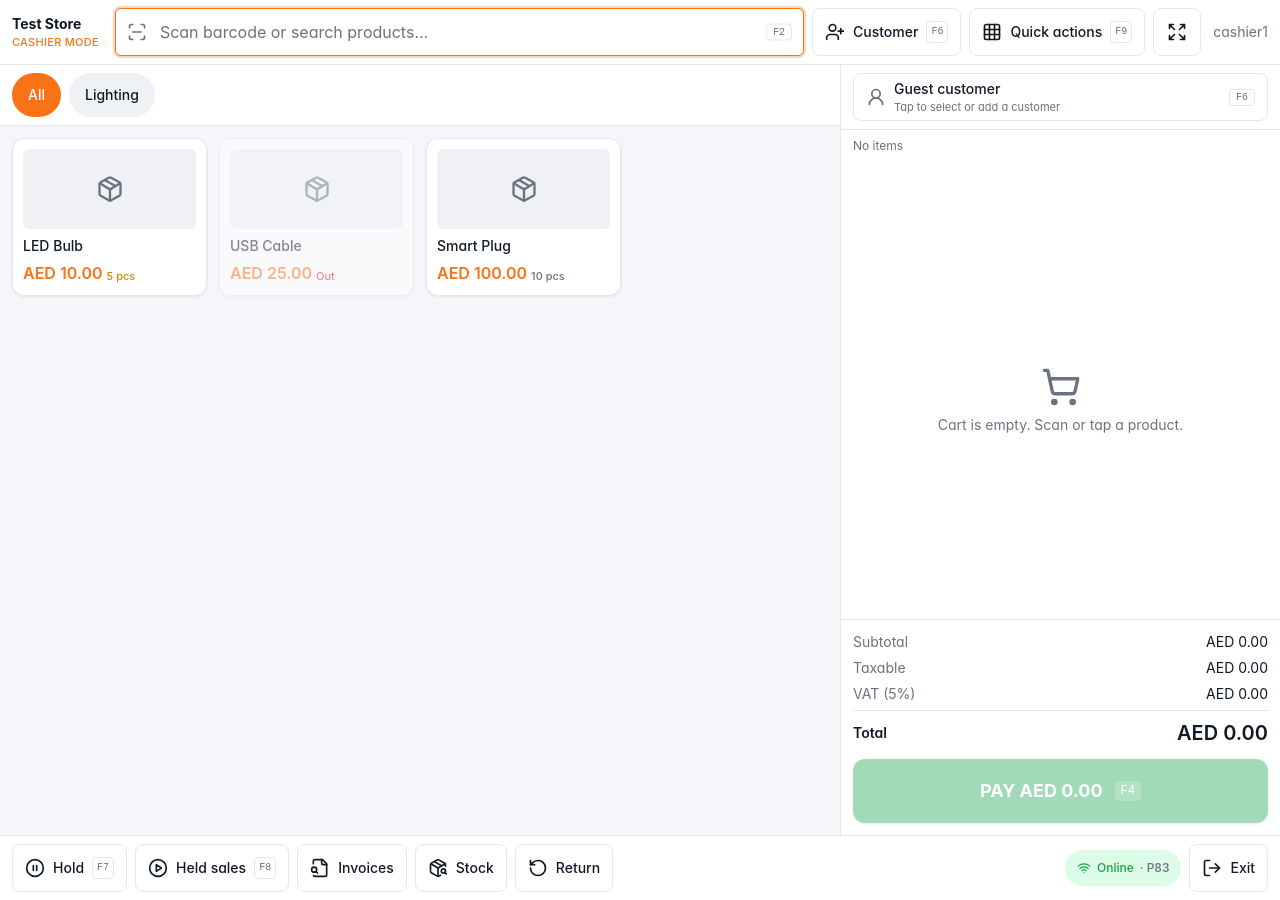
Test: Cashier Mode — keyboard › F4 opens payment, Escape closes it
The image size is (1280, 900).
Click the button with aria-label "Add LED Bulb".
click(110, 217)  # box [12,138,207,296]
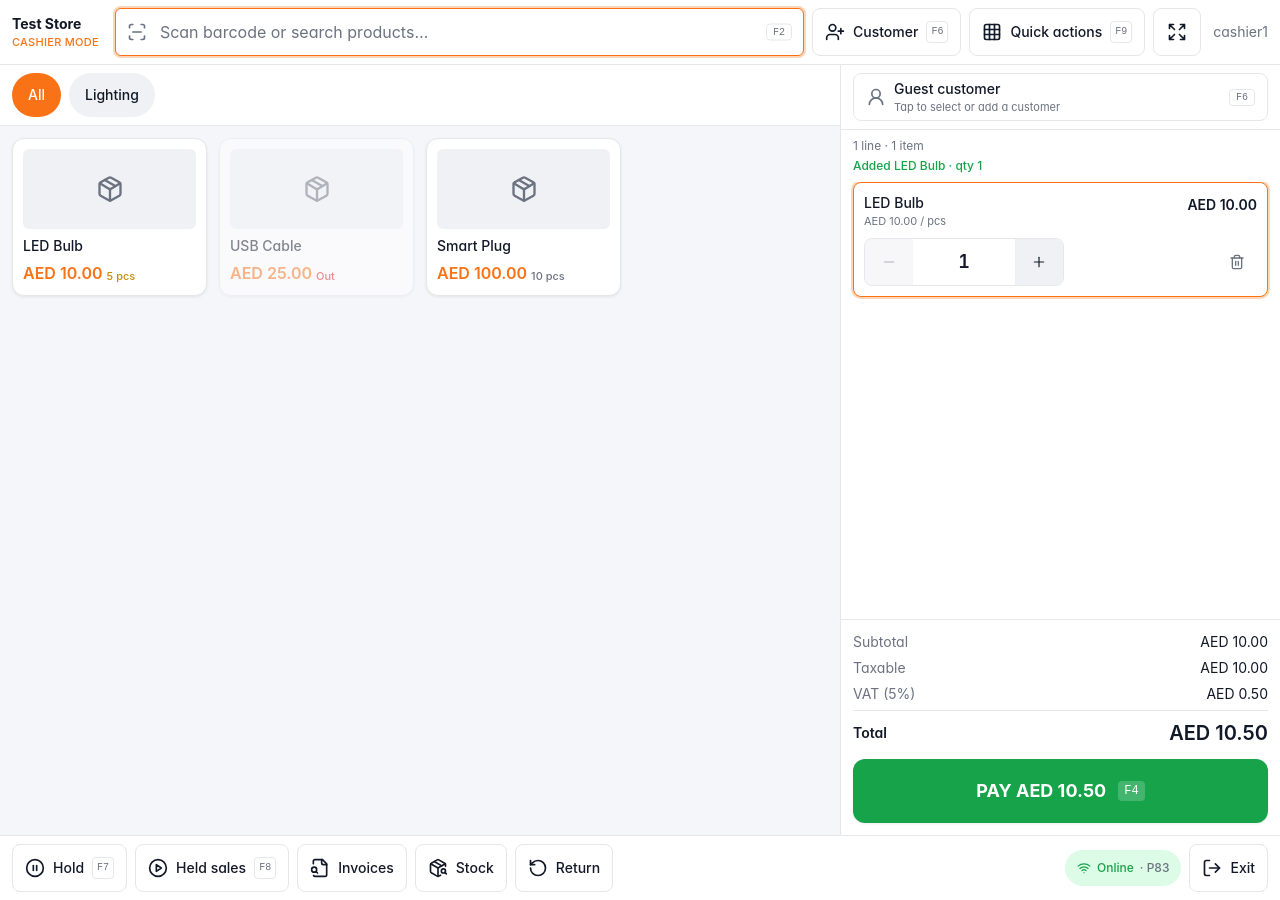
Press F4
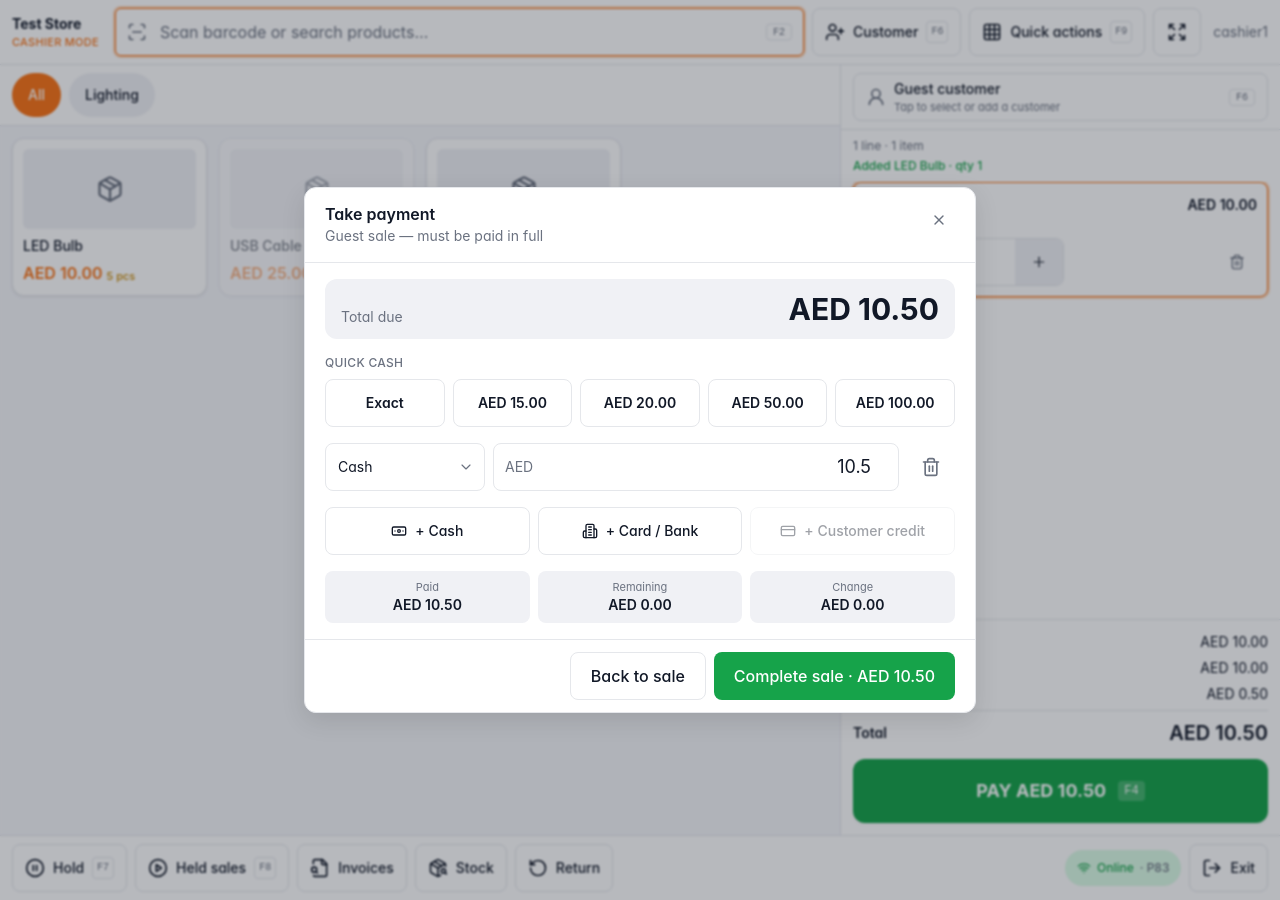
Expected: the dialog "Take payment" is shown, [304,187,976,713]
Press Escape
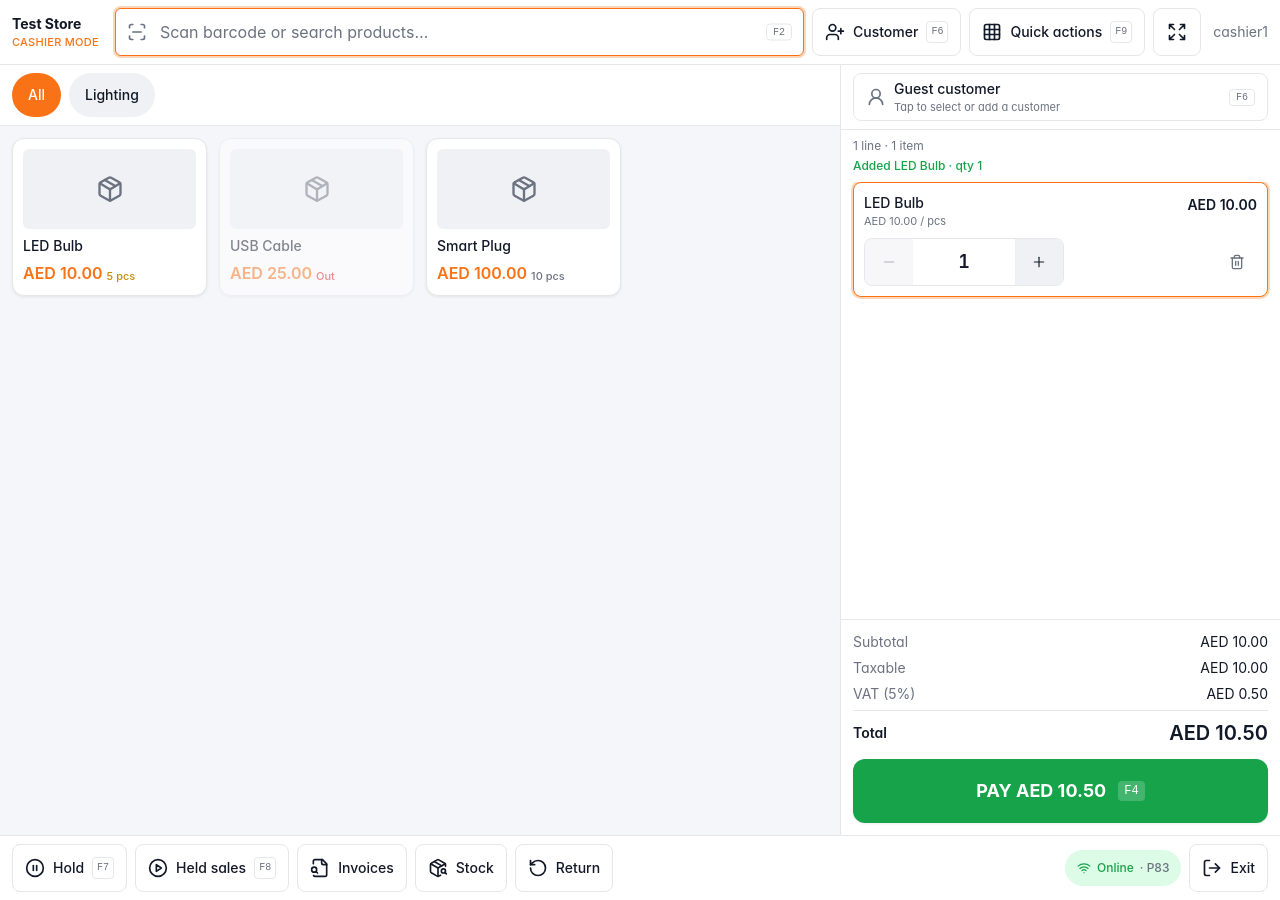
Expected: the text "LED Bulb" below "Added LED Bulb · qty 1" is shown, [864,194,924,211]
Expected: the heading "Take payment" is gone
